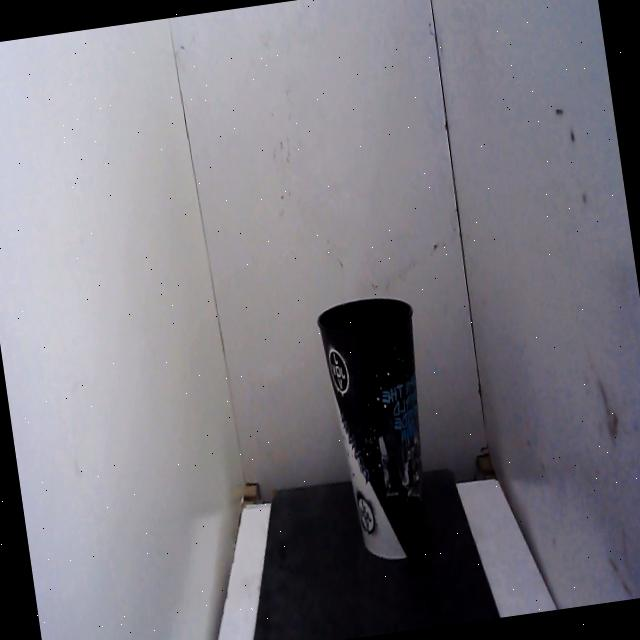plastico: (300, 257, 464, 594)
